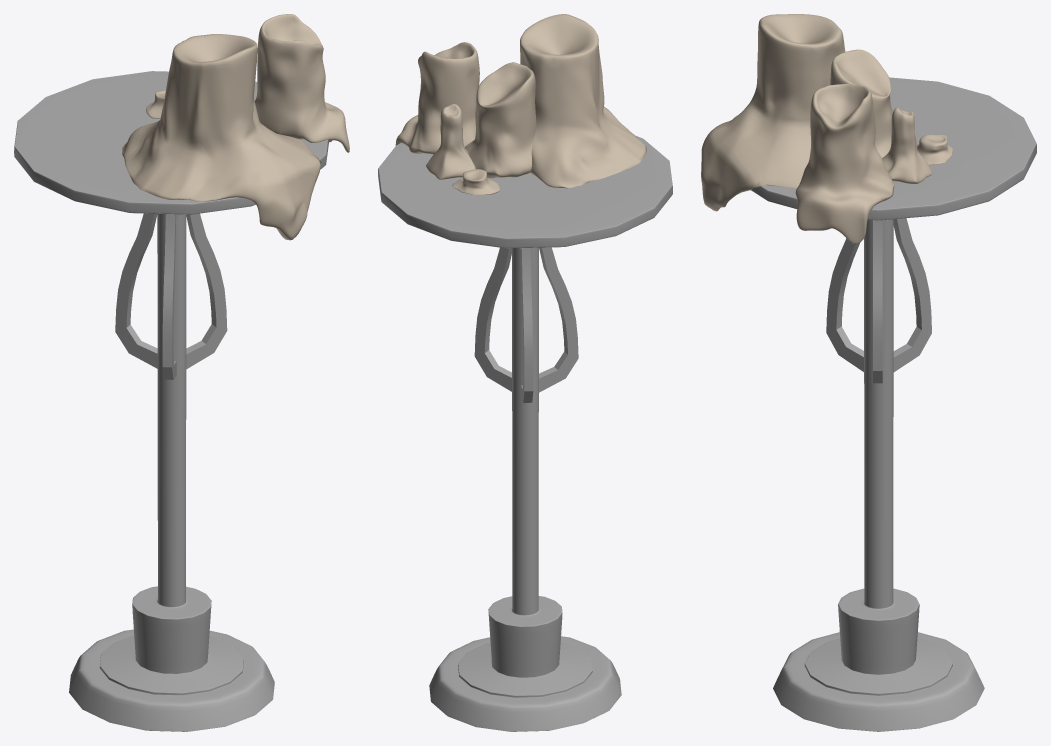
Rendered from bougie2.fbx.
The picture shows the model from 3 angles, left to right: view 1: azimuth 30°, elevation 25°; view 2: azimuth 150°, elevation 25°; view 3: azimuth 270°, elevation 25°; orthographic projection. The views are drawn at different scales.
Parts seen in each view (by area): view 1: pCylinder2, bougie3, pCylinder3, pCube5; view 2: pCylinder2, bougie3, pCylinder4, pCube5, pCylinder3, pCylinder5, pCylinder6; view 3: pCylinder2, bougie3, pCylinder3, pCube5, pCylinder4, pCylinder5, pCylinder6.
Part boxes in pixels (<box>): pCylinder2: <box>14,71,329,731</box>; bougie3: <box>122,34,320,240</box>; pCylinder3: <box>254,14,349,152</box>; pCube5: <box>115,213,227,379</box>; pCylinder2: <box>378,136,672,731</box>; bougie3: <box>520,14,646,188</box>; pCylinder4: <box>465,62,536,178</box>; pCube5: <box>474,247,578,402</box>; pCylinder3: <box>395,42,479,154</box>; pCylinder5: <box>426,104,475,179</box>; pCylinder6: <box>452,169,500,194</box>; pCylinder2: <box>733,77,1036,731</box>; bougie3: <box>701,14,845,211</box>; pCylinder3: <box>795,83,894,244</box>; pCube5: <box>826,218,931,383</box>; pCylinder4: <box>830,49,893,157</box>; pCylinder5: <box>882,107,932,183</box>; pCylinder6: <box>917,134,952,165</box>.
Size of the model in its own units: 1.73 by 3.9 by 1.77.
